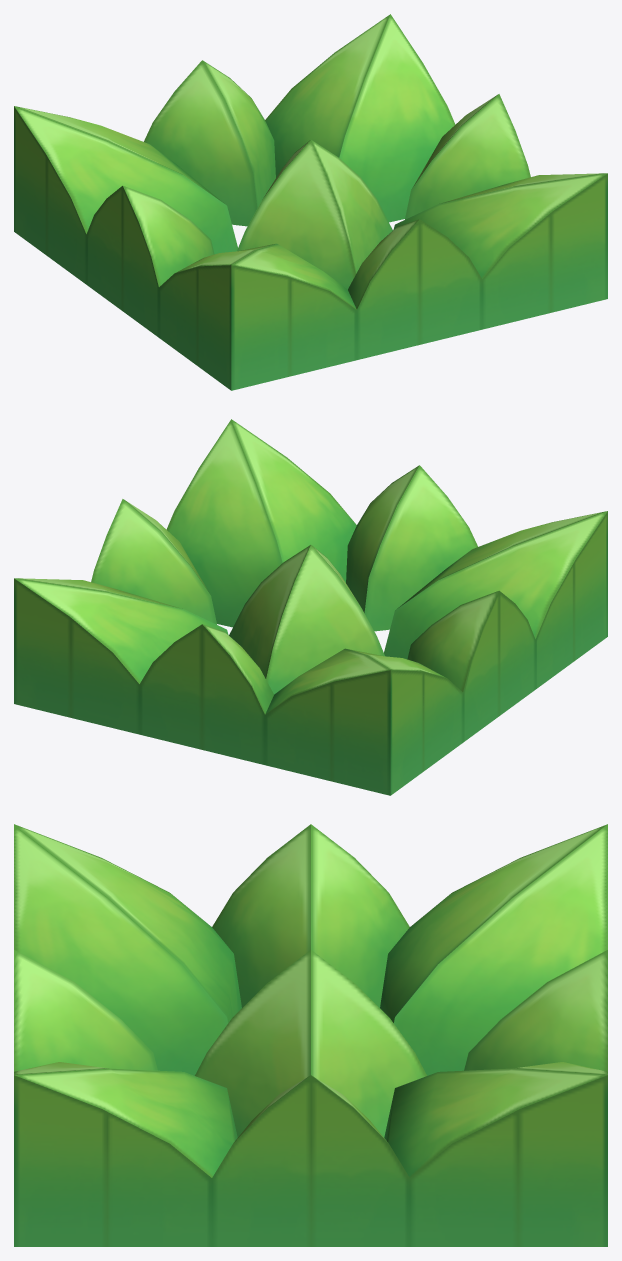
Rendered from Plant01_grass.FBX.
3 views of the same model, one above another, from view 1: azimuth 30°, elevation 25°; view 2: azimuth 150°, elevation 25°; view 3: azimuth 270°, elevation 25° (orthographic). The views are drawn at different scales.
Visible parts, largest first — view 1: Plant01_grass; view 2: Plant01_grass; view 3: Plant01_grass.
Boxes of the visible parts, box(x1,y1,x2,y2) form: Plant01_grass: box(14, 14, 607, 390); Plant01_grass: box(14, 419, 607, 795); Plant01_grass: box(14, 824, 607, 1246).
Bounding box in the file's own units: 94 × 30 × 94.
